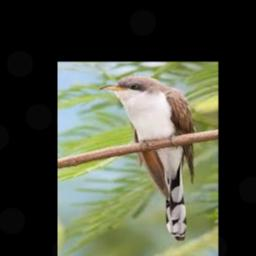Cuckoo: (99, 74, 195, 240)
